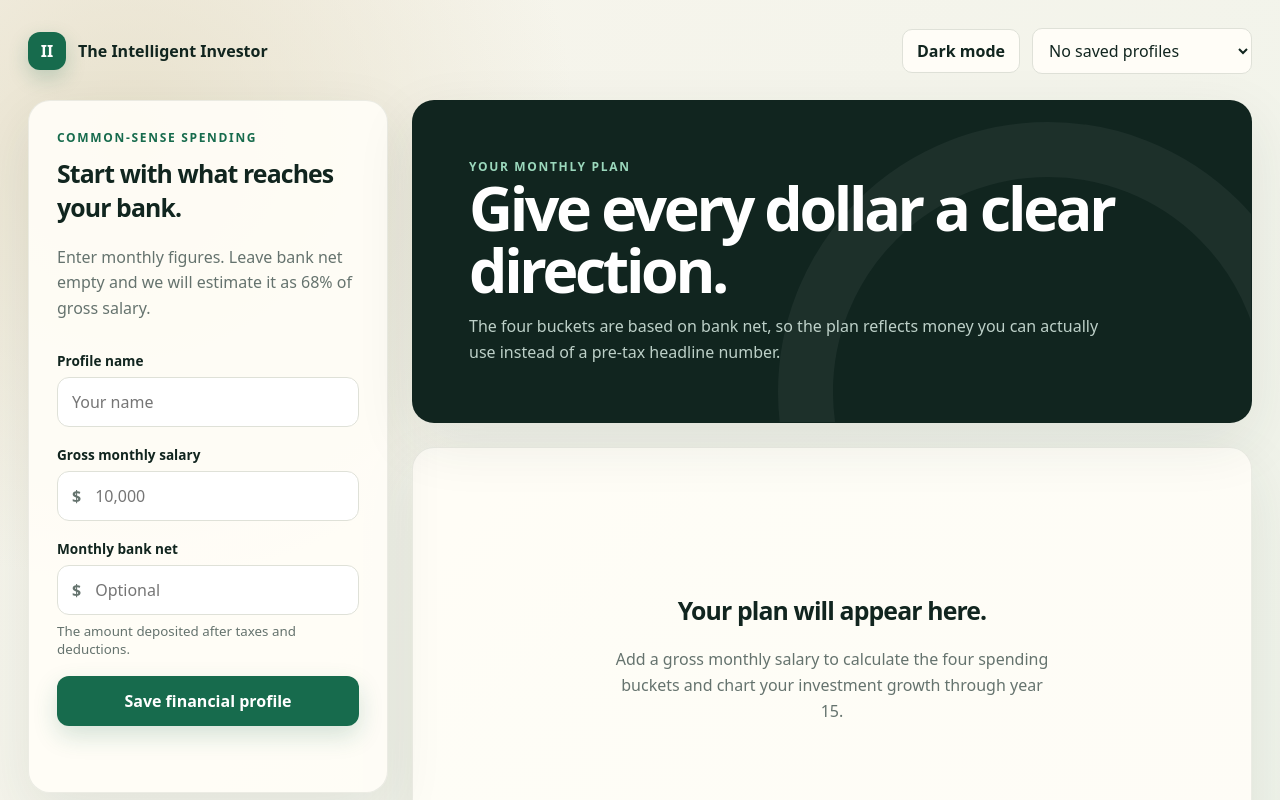
InvestorDashboard › toggles and persists dark mode
The width and height of the screenshot is (1280, 800).
Click the button with aria-label "Switch to dark mode".
click(961, 51)  # box [902,29,1020,73]
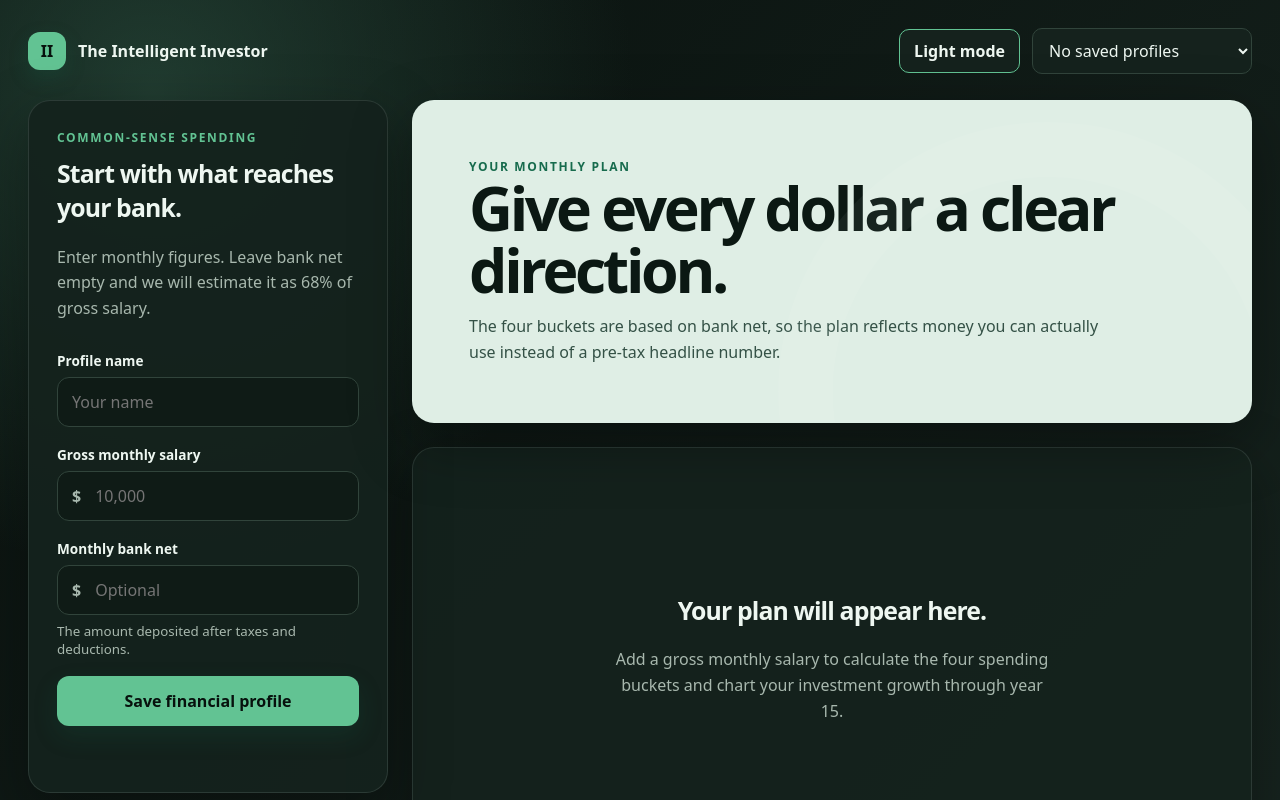
Check: the button with aria-label "Switch to light mode" is shown, box [899,29,1020,73]
